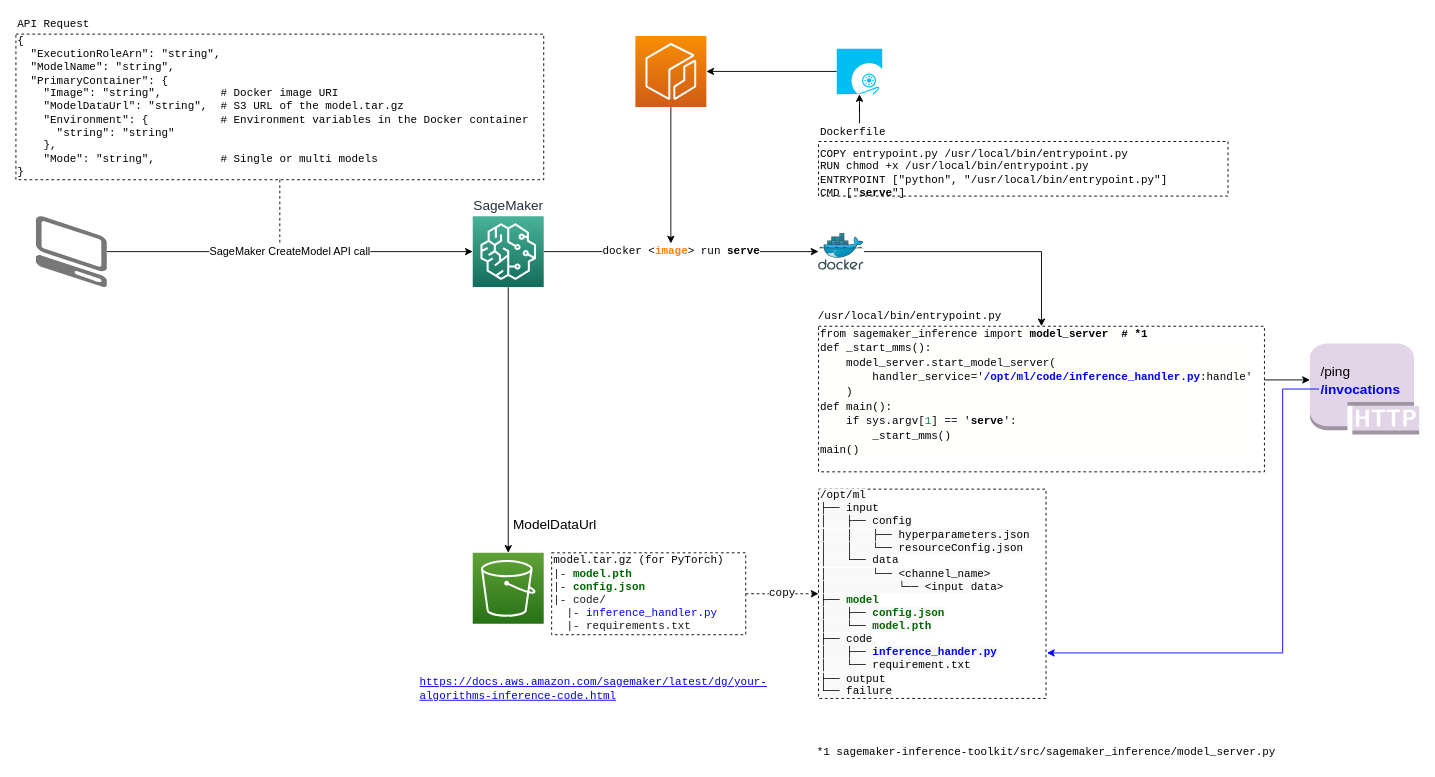
This 1435x777 diagram has some shape labels left out. Here are the shapes that lost their labels. From the top down, the centre of each, then its label:
At (x=670, y=71): "ECR".
At (x=508, y=588): "S3".
